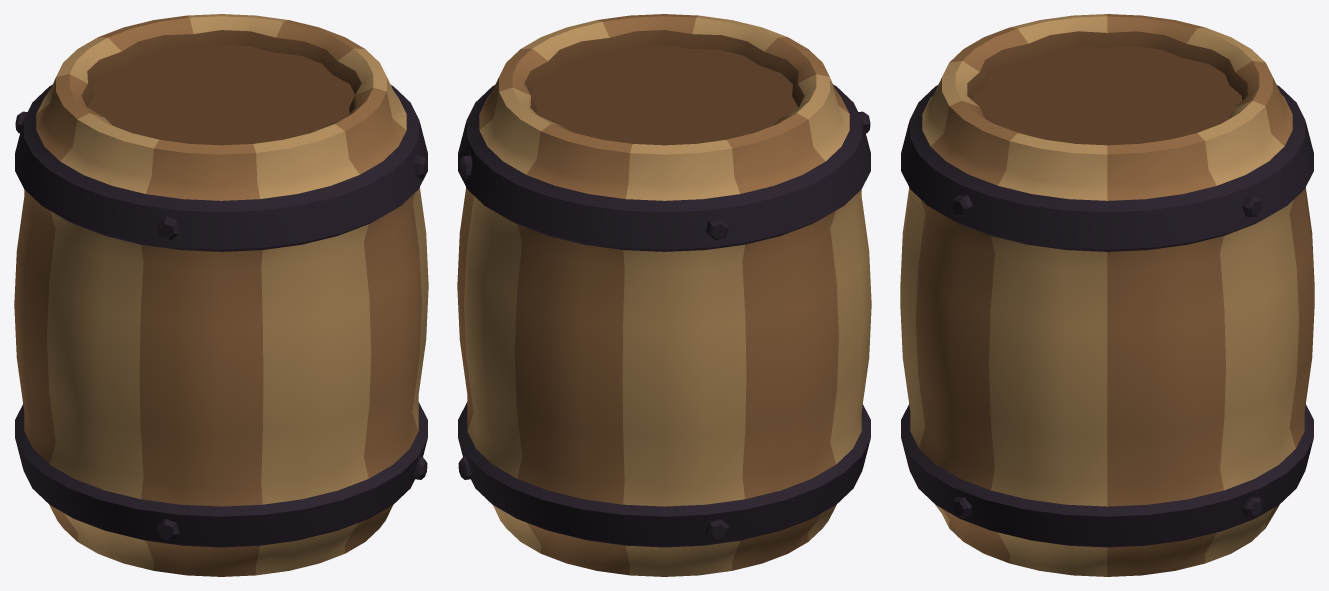
Rendered from Barrel_16.glb.
The picture shows the model from 3 angles, left to right: view 1: azimuth 30°, elevation 25°; view 2: azimuth 150°, elevation 25°; view 3: azimuth 270°, elevation 25°; orthographic projection.
Visible parts, largest first — view 1: Barrel_16; view 2: Barrel_16; view 3: Barrel_16.
Boxes of the visible parts, bbox=[...] form: Barrel_16: bbox=[14, 14, 428, 576]; Barrel_16: bbox=[457, 14, 871, 576]; Barrel_16: bbox=[900, 14, 1314, 576].
Bounding box in the file's own units: 2.13 × 2.43 × 2.12.
